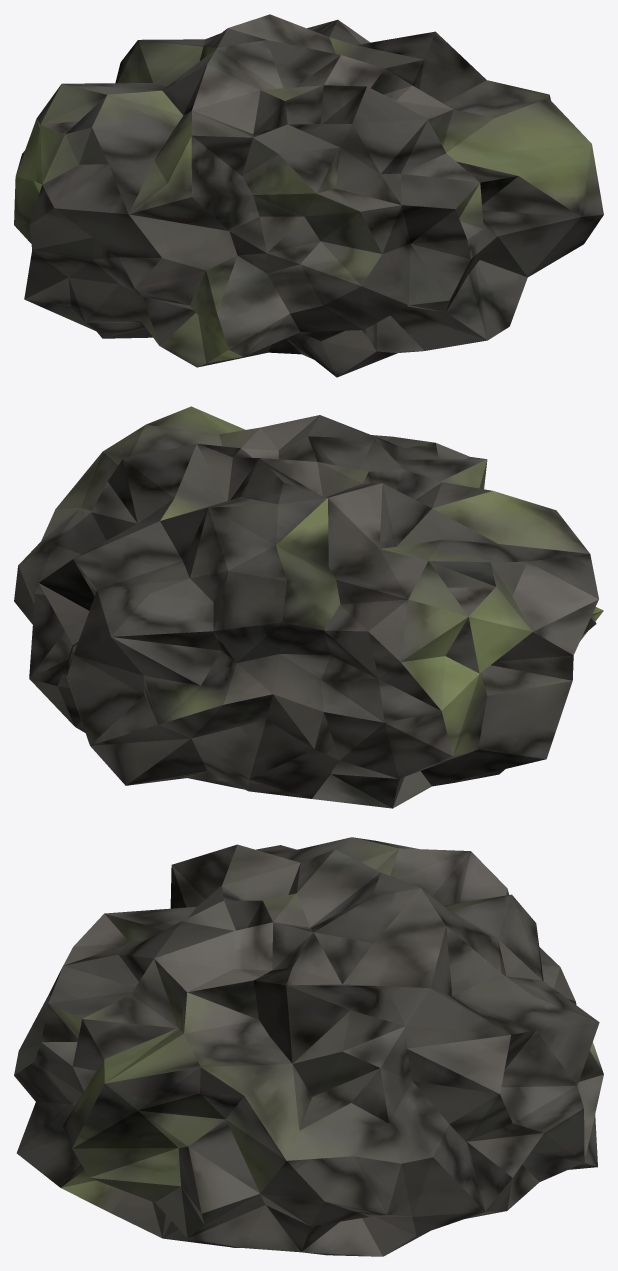
The model's file is rock0.fbx.
3 renders of one model, top to bottom at view 1: azimuth 30°, elevation 25°; view 2: azimuth 150°, elevation 25°; view 3: azimuth 270°, elevation 25°, orthographic. The views are drawn at different scales.
Parts seen in each view (by area): view 1: rock0; view 2: rock0; view 3: rock0.
Boxes of the visible parts, <box> form: rock0: <box>14,14,603,377</box>; rock0: <box>14,406,603,808</box>; rock0: <box>14,837,603,1256</box>.
Bounding box in the file's own units: 2.18 × 1.04 × 1.98.
Materials: 1 (1 with a texture image).
